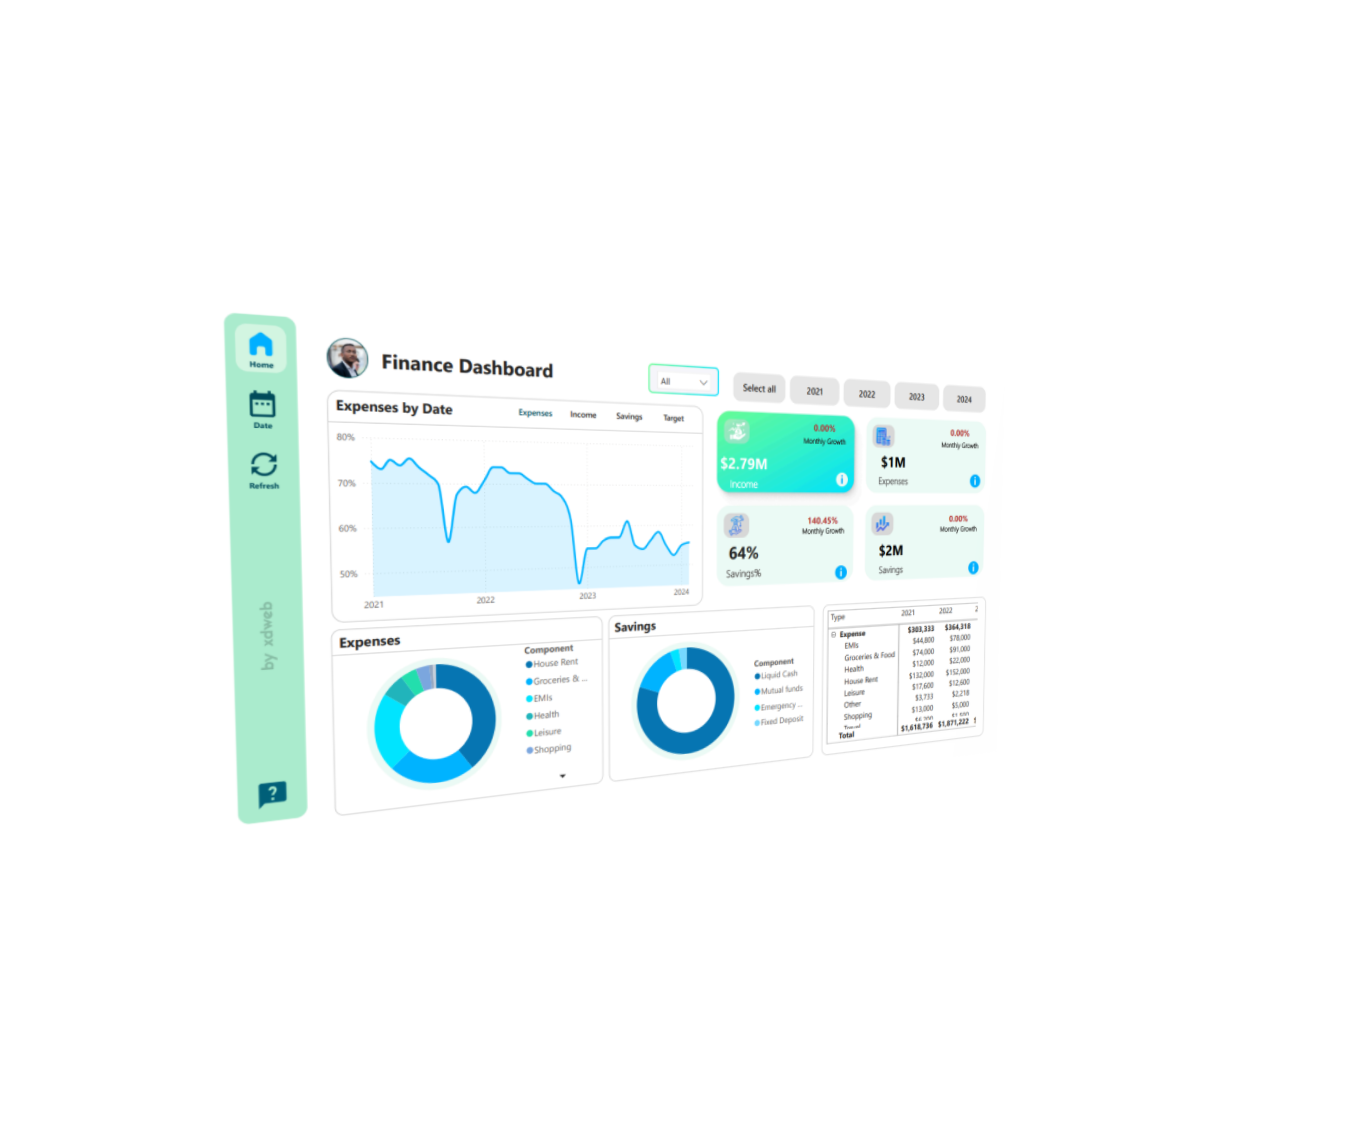

The dashboard page shown, as its layout file describes it:
{"tool":"powerbi","page":{"name":"Page 1","canvas":[1280,720],"ordinal":0},"visuals":[{"type":"donutChart","title":"Savings","fields":{"Y":["Dataset.Savings"],"Category":["Dataset.Component"]},"box":[536.2,437.5,360,252.5],"z":0},{"type":"card","fields":{"Values":["Dataset.Expenses"]},"box":[993.8,167.5,113.8,88.8],"z":1000},{"type":"areaChart","fields":{"Y":["Dataset.Line_Chart_Measures"],"Category":["Dataset.Date"]},"box":[146.4,120,547.3,307.3],"z":2000},{"type":"card","fields":{"Values":["Dataset.Savings"]},"box":[993.8,326.2,108.8,71.2],"z":3000},{"type":"card","fields":{"Values":["Dataset.Savings%"]},"box":[711.2,317.5,107.5,80],"z":4000},{"type":"advancedSlicerVisual","fields":{"Values":["Dataset.Year"]},"box":[753.8,31.2,468.8,58.8],"z":5000},{"type":"donutChart","title":"Expenses","fields":{"Category":["Dataset.Component"],"Y":["Dataset.Expenses"]},"box":[145,437.5,382.5,252.5],"z":6000},{"type":"pivotTable","fields":{"Values":["Dataset.Total_Values"],"Rows":["Dataset.Type","Dataset.Component"],"Columns":["Dataset.Year"]},"box":[913.8,437.5,343.8,252.5],"z":7000},{"type":"card","fields":{"Values":["Dataset.Income"]},"box":[716.4,180.9,97.3,74.5],"z":8000},{"type":"textbox","box":[210.9,55.5,300,46.4],"z":9000},{"type":"slicer","fields":{"Values":["Selected_Date.Month-yr"]},"box":[595.5,55.5,128.2,46.4],"z":10000},{"type":"advancedSlicerVisual","fields":{"Values":["Line_Selection_Table.Type"]},"box":[390.9,122.7,290,37.3],"z":11000},{"type":"card","fields":{"Values":["Dataset.Ex_ws_Sav"]},"box":[573.3,155,150,81.7],"z":12000},{"type":"card","fields":{"Values":["Dataset.Income_Monthly_Gr"]},"box":[882.9,135,61.8,26.4],"z":13000,"group":"g1"},{"type":"card","fields":{"Values":["Dataset.Savings_Monthly_Gr"]},"box":[1161.1,135.5,61.8,26.4],"z":13000,"group":"g3"},{"type":"card","fields":{"Values":["Dataset.Expenses_Monthly_Gr"]},"box":[1153.8,283.9,74.6,23.8],"z":13000,"group":"g4"},{"type":"card","fields":{"Values":["Dataset.Ex_ws_Sav"]},"box":[859.5,286.1,105,28.8],"z":13000,"group":"g2"},{"type":"group","id":"g1","title":"Group 1","box":[861.8,135,103.6,45.9],"z":14000},{"type":"group","id":"g2","title":"Group 1","box":[859.5,286.1,105.9,41.7],"z":15000},{"type":"textbox","box":[861.8,153.6,103.6,27.3],"z":15001,"group":"g1"},{"type":"textbox","box":[1140,154.1,103.6,27.3],"z":15001,"group":"g3"},{"type":"textbox","box":[861.8,300.5,103.6,27.3],"z":15001,"group":"g2"},{"type":"textbox","box":[1140,300.5,103.6,27.3],"z":15001,"group":"g4"},{"type":"group","id":"g3","title":"Group 1","box":[1140,135.5,103.6,45.5],"z":16000},{"type":"group","id":"g4","title":"Group 1","box":[1140,283.9,103.6,43.8],"z":17000}]}

Visuals, with their boxes on the page's 1280x720 design canvas (x1, y1, x2, y2). These are canvas units, not pixel positions in the 1350x1125 screenshot, which may show the page scaled, cropped or inside an application window:
"Savings" donutChart: bbox(536, 438, 896, 690)
card - Dataset.Expenses: bbox(994, 168, 1108, 256)
areaChart - Dataset.Line_Chart_Measures x Dataset.Date: bbox(146, 120, 694, 427)
card - Dataset.Savings: bbox(994, 326, 1103, 397)
card - Dataset.Savings%: bbox(711, 318, 819, 398)
advancedSlicerVisual - Dataset.Year: bbox(754, 31, 1223, 90)
"Expenses" donutChart: bbox(145, 438, 528, 690)
pivotTable - Dataset.Total_Values x Dataset.Type: bbox(914, 438, 1258, 690)
card - Dataset.Income: bbox(716, 181, 814, 255)
textbox: bbox(211, 56, 511, 102)
slicer - Selected_Date.Month-yr: bbox(596, 56, 724, 102)
advancedSlicerVisual - Line_Selection_Table.Type: bbox(391, 123, 681, 160)
card - Dataset.Ex_ws_Sav: bbox(573, 155, 723, 237)
card - Dataset.Income_Monthly_Gr: bbox(883, 135, 945, 161)
card - Dataset.Savings_Monthly_Gr: bbox(1161, 136, 1223, 162)
card - Dataset.Expenses_Monthly_Gr: bbox(1154, 284, 1228, 308)
card - Dataset.Ex_ws_Sav: bbox(860, 286, 964, 315)
"Group 1" group: bbox(862, 135, 965, 181)
"Group 1" group: bbox(860, 286, 965, 328)
textbox: bbox(862, 154, 965, 181)
textbox: bbox(1140, 154, 1244, 181)
textbox: bbox(862, 300, 965, 328)
textbox: bbox(1140, 300, 1244, 328)
"Group 1" group: bbox(1140, 136, 1244, 181)
"Group 1" group: bbox(1140, 284, 1244, 328)
